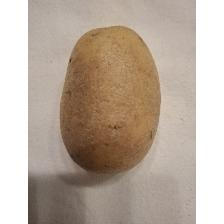Kartoffel: (56, 20, 164, 177)
